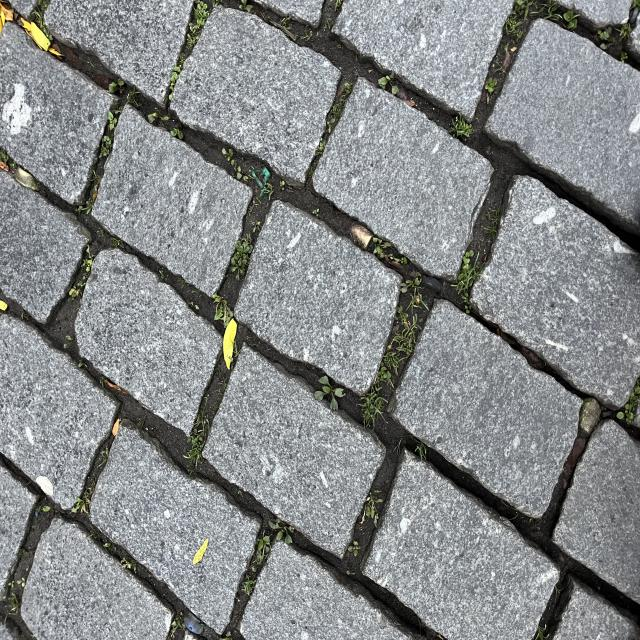weedling: (548, 486, 639, 602)
